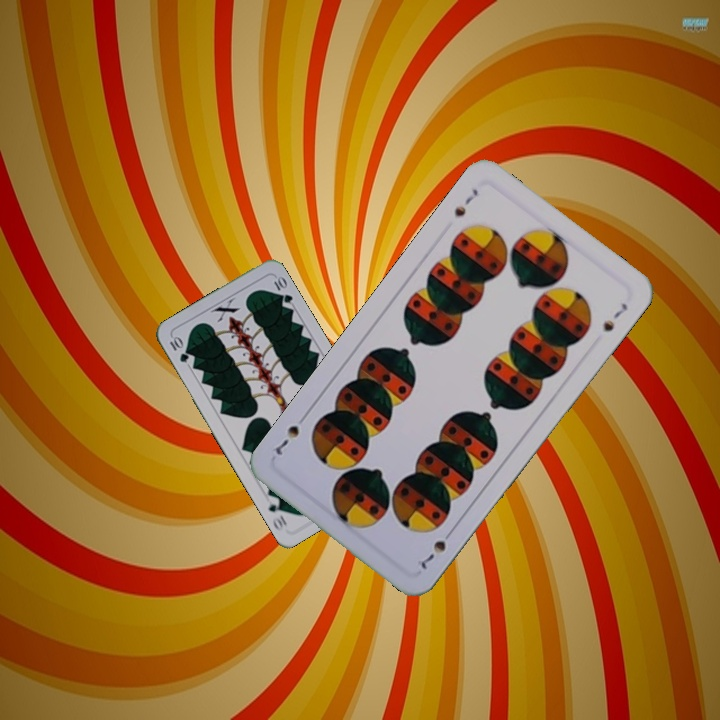G10: (165, 332, 191, 365)
S7: (413, 524, 457, 572), (450, 184, 481, 220)
